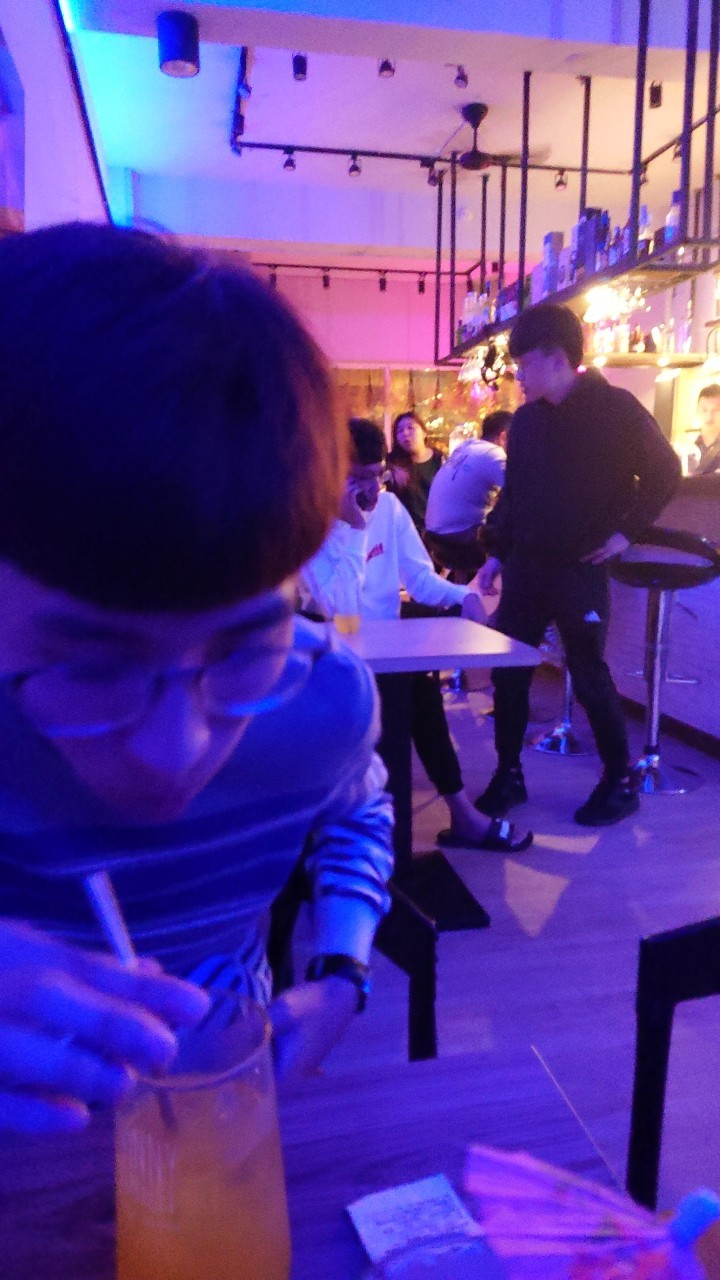people: (5, 225, 405, 1088), (495, 296, 636, 821), (342, 414, 434, 623), (440, 406, 516, 576), (385, 419, 446, 537)
